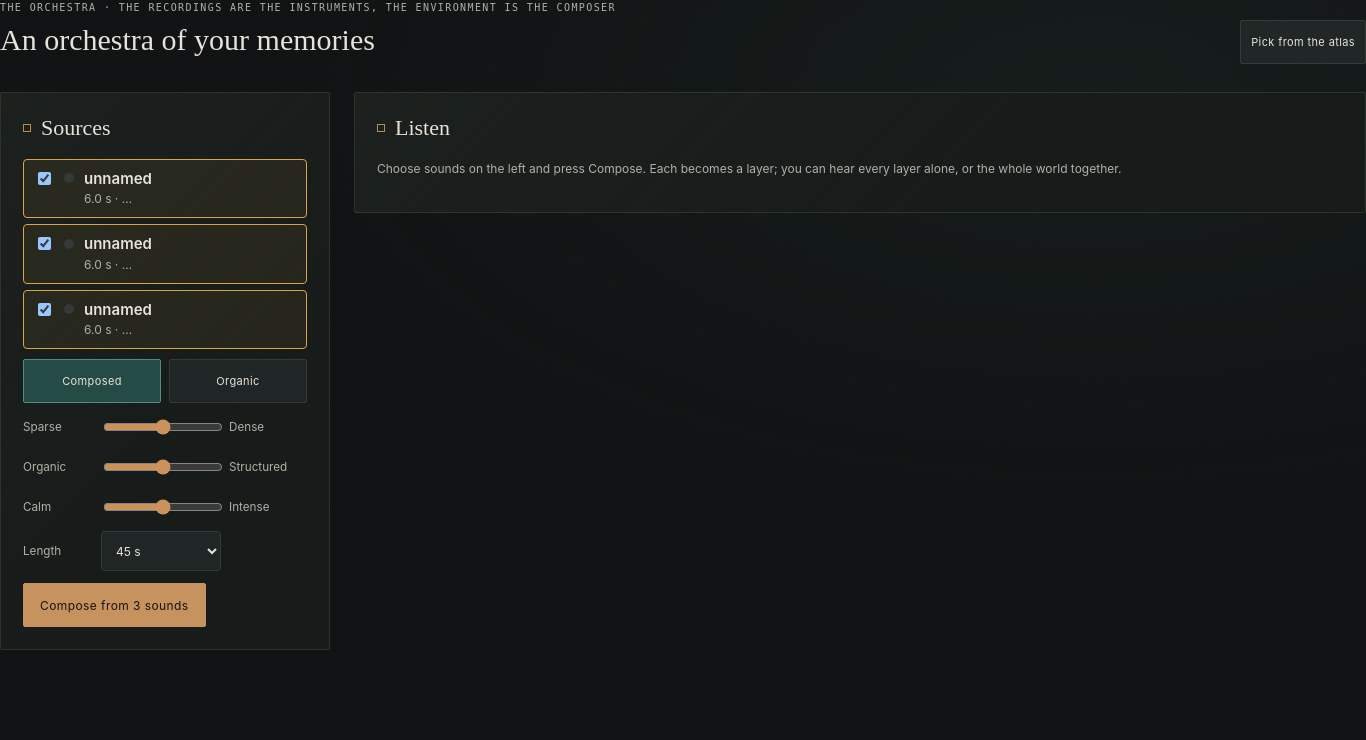
Orchestra view › shows a failed render with a retry that works
What coordinates should you click on to do the following:
click the button "Compose from 3 sounds"
I would click on:
 (114, 605)
Its box is [23,583,206,627].
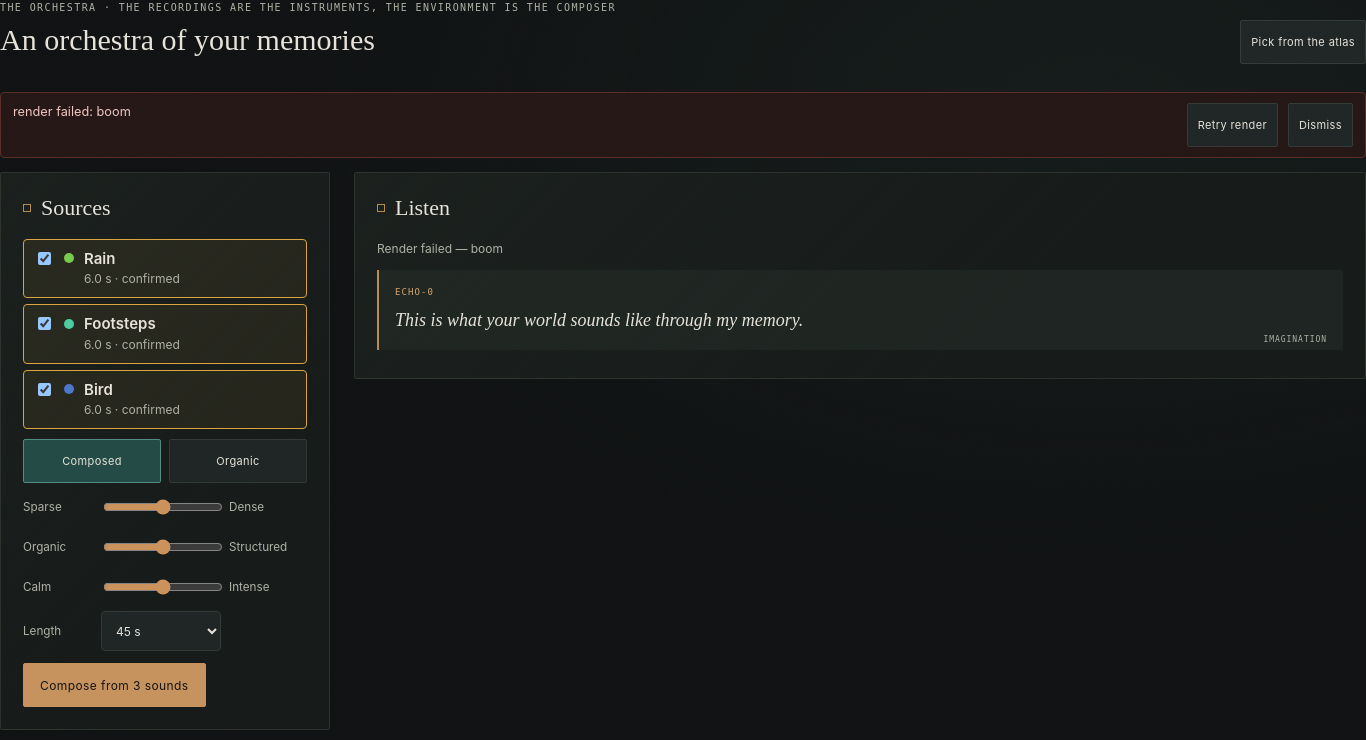
Expected: the message "render failed: boom Retry render Dismiss" is shown, [0,92,1365,158]
What coordinates should you click on to do the following:
click the button "Retry render"
I would click on:
 (1232, 124)
Its box is [1187,102,1278,146].
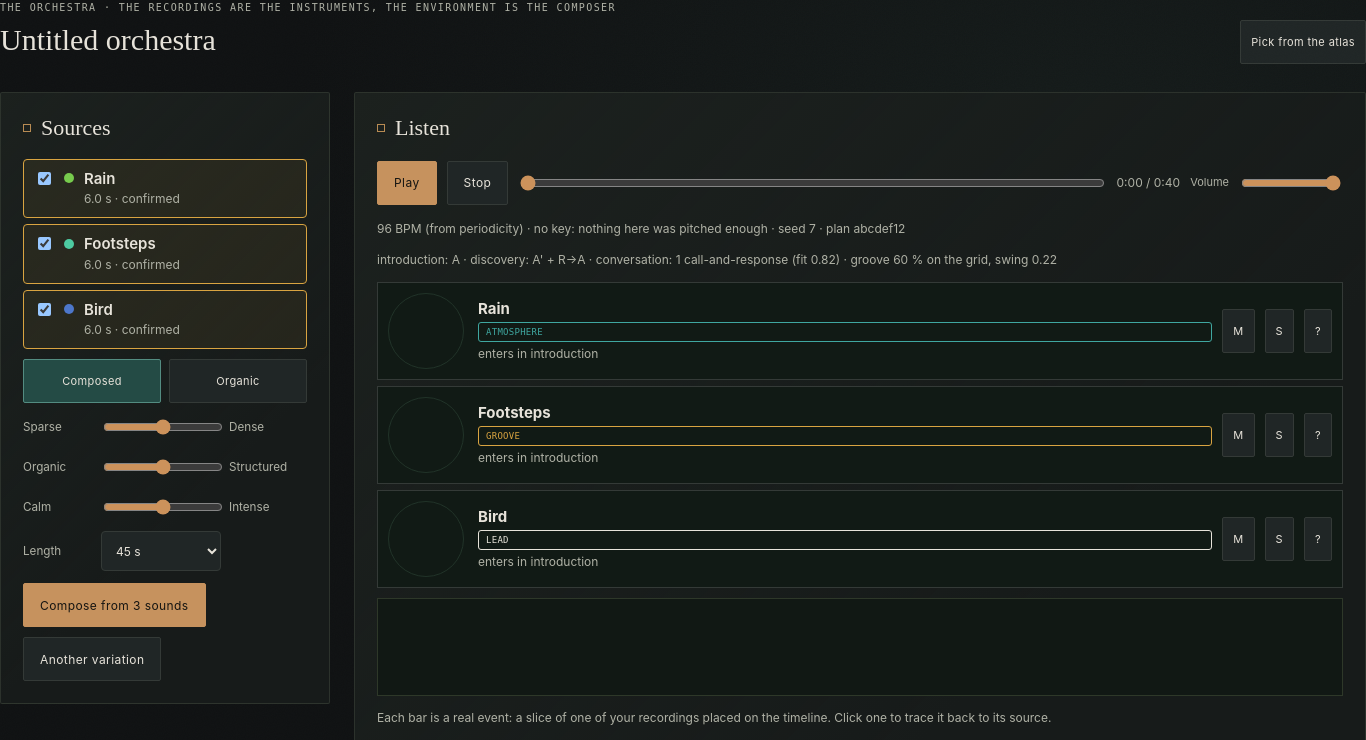
Expected: the button "Play" is shown, [377,160,437,204]
